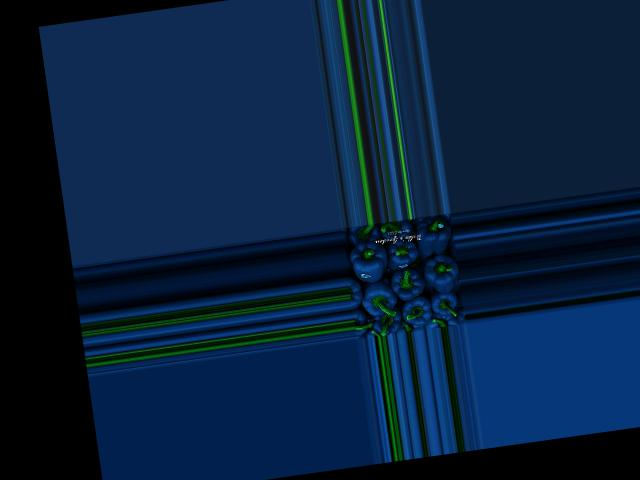bell_pepper: (343, 222, 384, 250)
